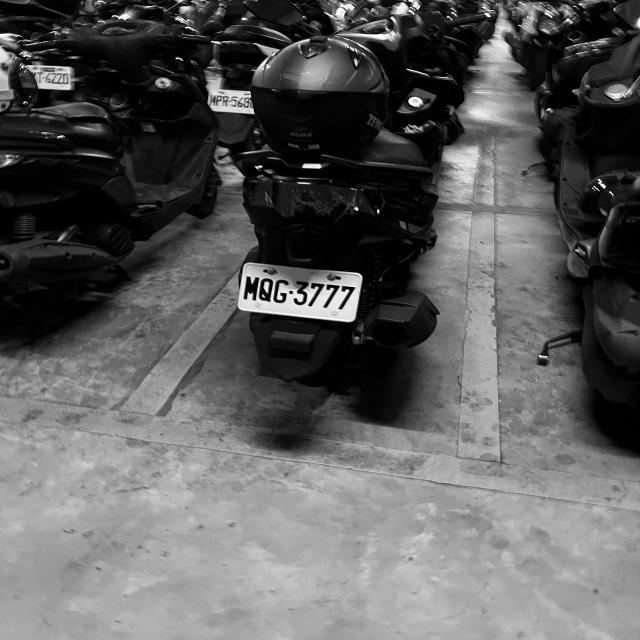-: (290, 290, 294, 294), (42, 76, 45, 80), (228, 100, 231, 103)
0: (62, 73, 69, 84)
2: (57, 73, 63, 84), (51, 73, 57, 84)
3: (292, 279, 310, 307)
5: (230, 96, 238, 107)
6: (236, 97, 244, 108), (45, 72, 51, 84)
7: (336, 284, 357, 311), (307, 281, 326, 308), (323, 283, 341, 310)
8: (243, 97, 250, 108)
G: (272, 278, 290, 304)
M: (242, 274, 261, 302), (209, 95, 217, 106)
P: (215, 95, 222, 106)
Q: (258, 277, 274, 303)
R: (221, 96, 229, 107)
T: (37, 72, 43, 84)
plate: (244, 264, 358, 316)
